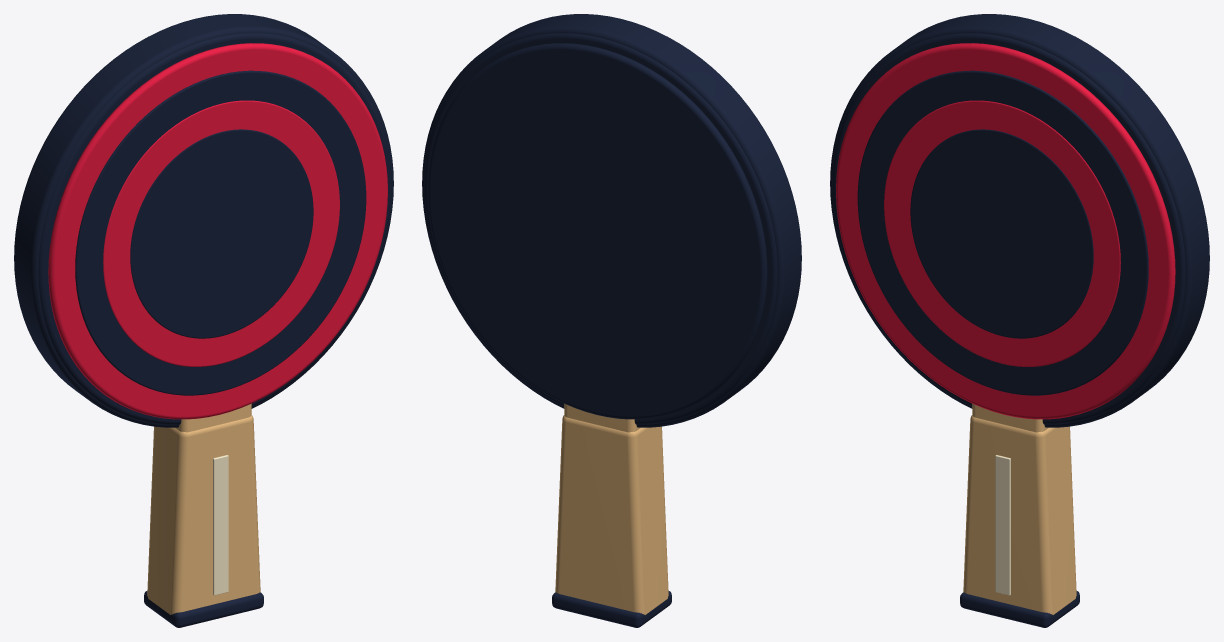
Rendered from SpinMaster.glb.
3 views of the same model, side by side, from view 1: azimuth 30°, elevation 25°; view 2: azimuth 150°, elevation 25°; view 3: azimuth 330°, elevation 25° (orthographic).
Parts seen in each view (by area): view 1: SpinGroove2, FrontRubber, SpinGroove0, SpinGroove1, WoodHandle, OuterRim, RimLip, HandleInlay, HandleButt, Neck; view 2: BackRubber, WoodHandle, OuterRim, RimLip, HandleButt, Neck; view 3: SpinGroove2, FrontRubber, SpinGroove0, SpinGroove1, WoodHandle, OuterRim, RimLip, HandleInlay, HandleButt, Neck.
Boxes of the visible parts, box(x1,y1,x2,y2) form: SpinGroove2: box(130, 129, 313, 338); FrontRubber: box(48, 43, 387, 419); SpinGroove0: box(75, 70, 366, 395); SpinGroove1: box(103, 100, 339, 366); WoodHandle: box(147, 415, 260, 614); OuterRim: box(14, 14, 393, 427); RimLip: box(38, 33, 391, 424); HandleInlay: box(213, 455, 228, 595); HandleButt: box(144, 591, 263, 627); Neck: box(175, 403, 251, 432); BackRubber: box(428, 43, 767, 419); WoodHandle: box(555, 415, 668, 614); OuterRim: box(422, 14, 801, 427); RimLip: box(424, 33, 777, 424); HandleButt: box(552, 591, 671, 627); Neck: box(564, 403, 640, 432); SpinGroove2: box(910, 129, 1093, 338); FrontRubber: box(836, 43, 1175, 419); SpinGroove0: box(857, 70, 1148, 395); SpinGroove1: box(884, 100, 1120, 366); WoodHandle: box(963, 415, 1076, 614); OuterRim: box(830, 14, 1209, 427); RimLip: box(832, 33, 1185, 424); HandleInlay: box(995, 455, 1010, 595); HandleButt: box(960, 591, 1079, 627); Neck: box(972, 403, 1048, 432).
Bounding box in the file's own units: 0.61 × 0.9365 × 0.1042.
